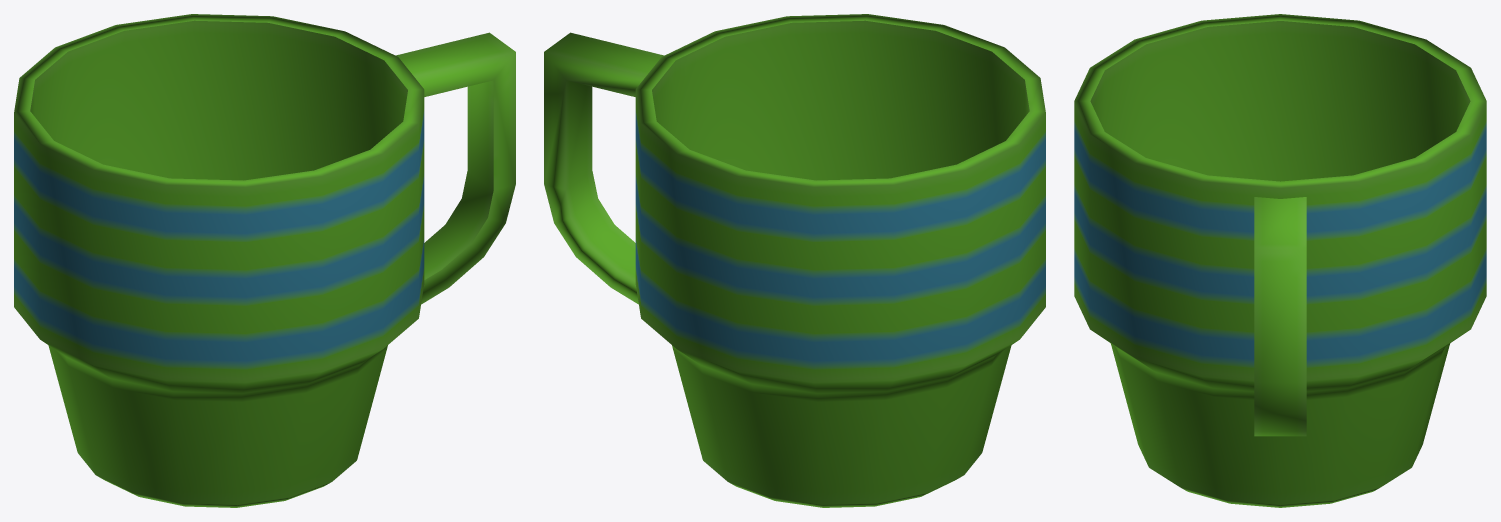
File: pi_cup02_04.gltf
The picture shows the model from 3 angles, left to right: view 1: azimuth 30°, elevation 25°; view 2: azimuth 150°, elevation 25°; view 3: azimuth 270°, elevation 25°; orthographic projection.
Visible parts, largest first — view 1: pi_cup02_04_mesh_shape:pi_cup02_04_body01; view 2: pi_cup02_04_mesh_shape:pi_cup02_04_body01; view 3: pi_cup02_04_mesh_shape:pi_cup02_04_body01.
Part boxes in pixels (<box>): pi_cup02_04_mesh_shape:pi_cup02_04_body01: <box>14,14,515,507</box>; pi_cup02_04_mesh_shape:pi_cup02_04_body01: <box>544,14,1045,507</box>; pi_cup02_04_mesh_shape:pi_cup02_04_body01: <box>1074,14,1486,507</box>.
Size of what is drawn, in the model's own units: 0.1646 by 0.1197 by 0.1275.
1 material, 1 textured.
